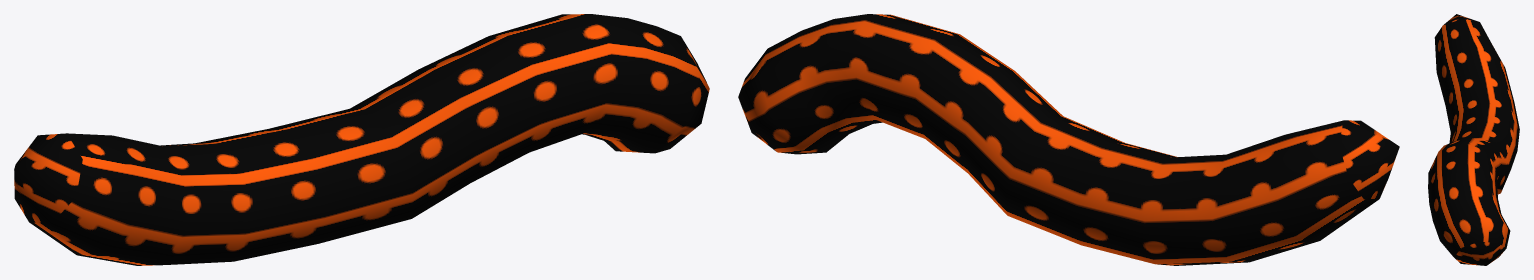
File: M_kemushi.fbx
The picture shows the model from 3 angles, left to right: view 1: azimuth 30°, elevation 25°; view 2: azimuth 150°, elevation 25°; view 3: azimuth 270°, elevation 25°; orthographic projection. The views are drawn at different scales.
Visible parts, largest first — view 1: M_kemushi1; view 2: M_kemushi1; view 3: M_kemushi1.
Boxes of the visible parts, box(x1,y1,x2,y2) form: M_kemushi1: box(14, 14, 709, 265); M_kemushi1: box(738, 14, 1399, 265); M_kemushi1: box(1428, 14, 1519, 265).
Size of the model in its own units: 2.07 by 0.5215 by 0.4361.
1 material, 1 textured.
